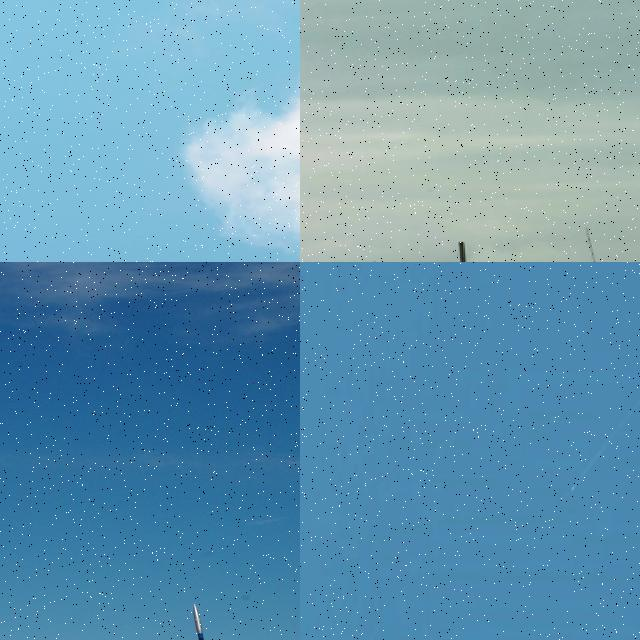Rocket: (191, 603, 221, 640), (572, 488, 573, 491)
